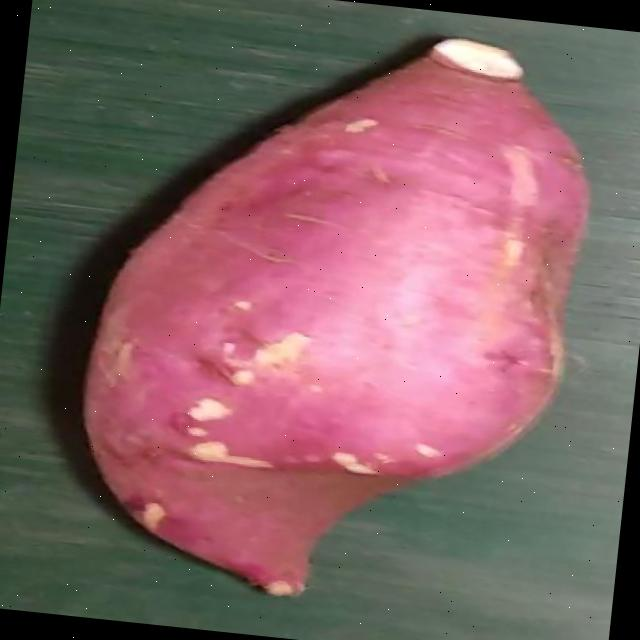Sweet Potato: (82, 36, 590, 598)
